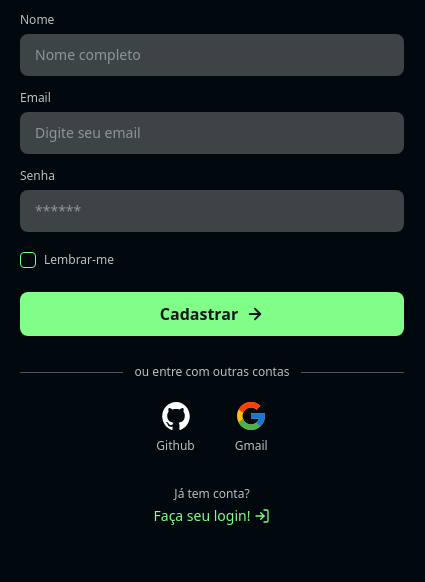
Test: RegisterForm organism › validates email format and password length
Type "Maria Silva" into the field labelled "Nome" at coordinates (212, 55), box x1=20 y1=34 x2=404 y2=76
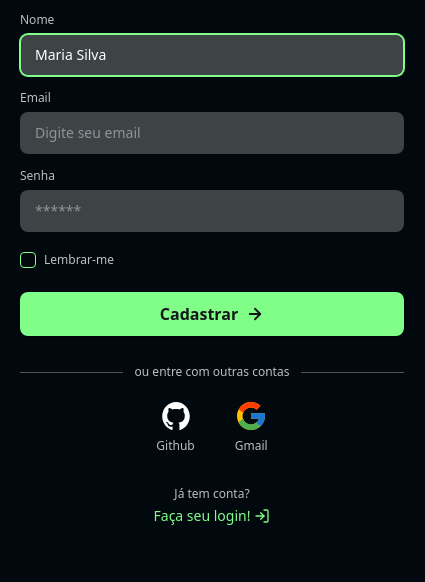
Type "email-invalido" into the field labelled "Email" at coordinates (212, 133), box x1=20 y1=112 x2=404 y2=154
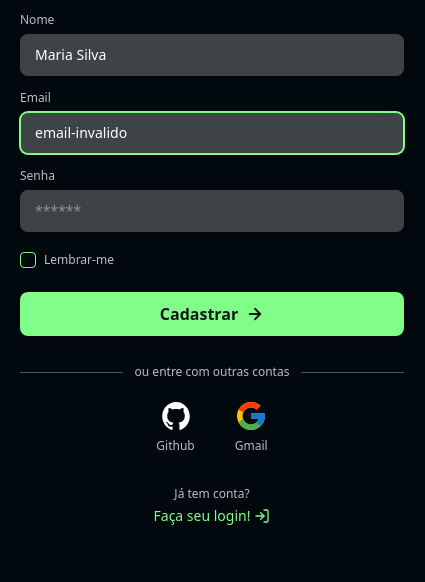
Type "123" into the password field labelled "Senha" at coordinates (212, 211), box x1=20 y1=190 x2=404 y2=232
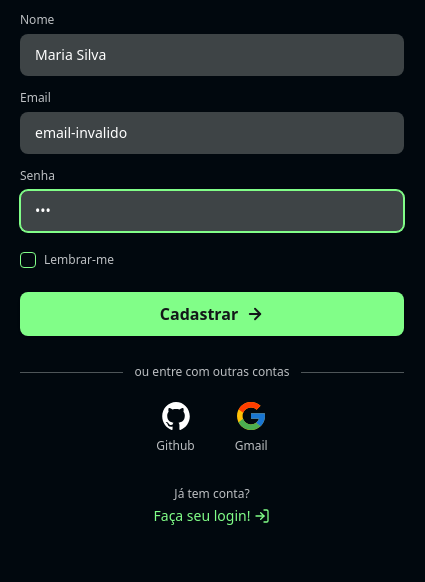
Click the button "Cadastrar" at coordinates (212, 314), box x1=20 y1=292 x2=404 y2=336
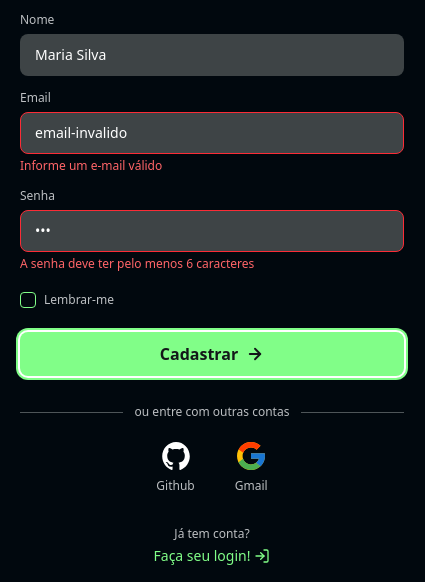
Now the text "Informe um e-mail válido" is shown, box x1=20 y1=157 x2=162 y2=174
Now the text "A senha deve ter pelo menos 6 caracteres" is shown, box x1=20 y1=255 x2=254 y2=272
